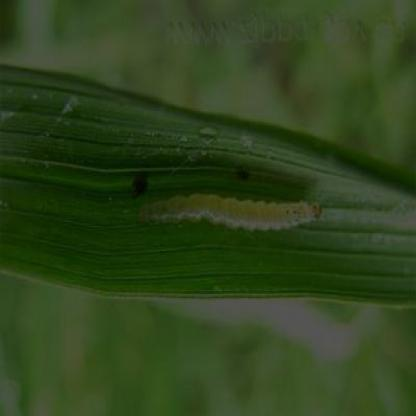leaf-folder: (143, 175, 318, 250)
